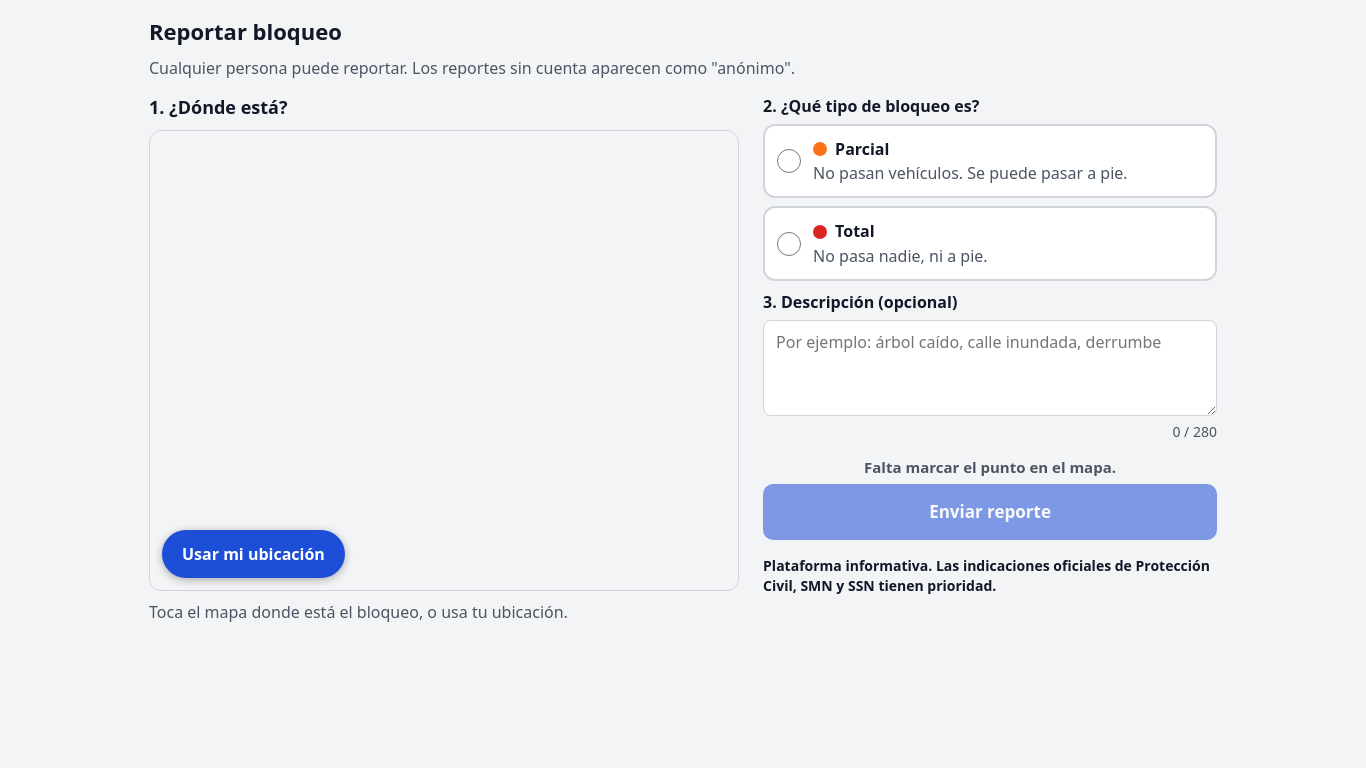
Scenario: ReportarBloqueo › si niegan el permiso de ubicación lo explica
Click the button "Usar mi ubicación" at (253, 554), box [162,530,345,578]
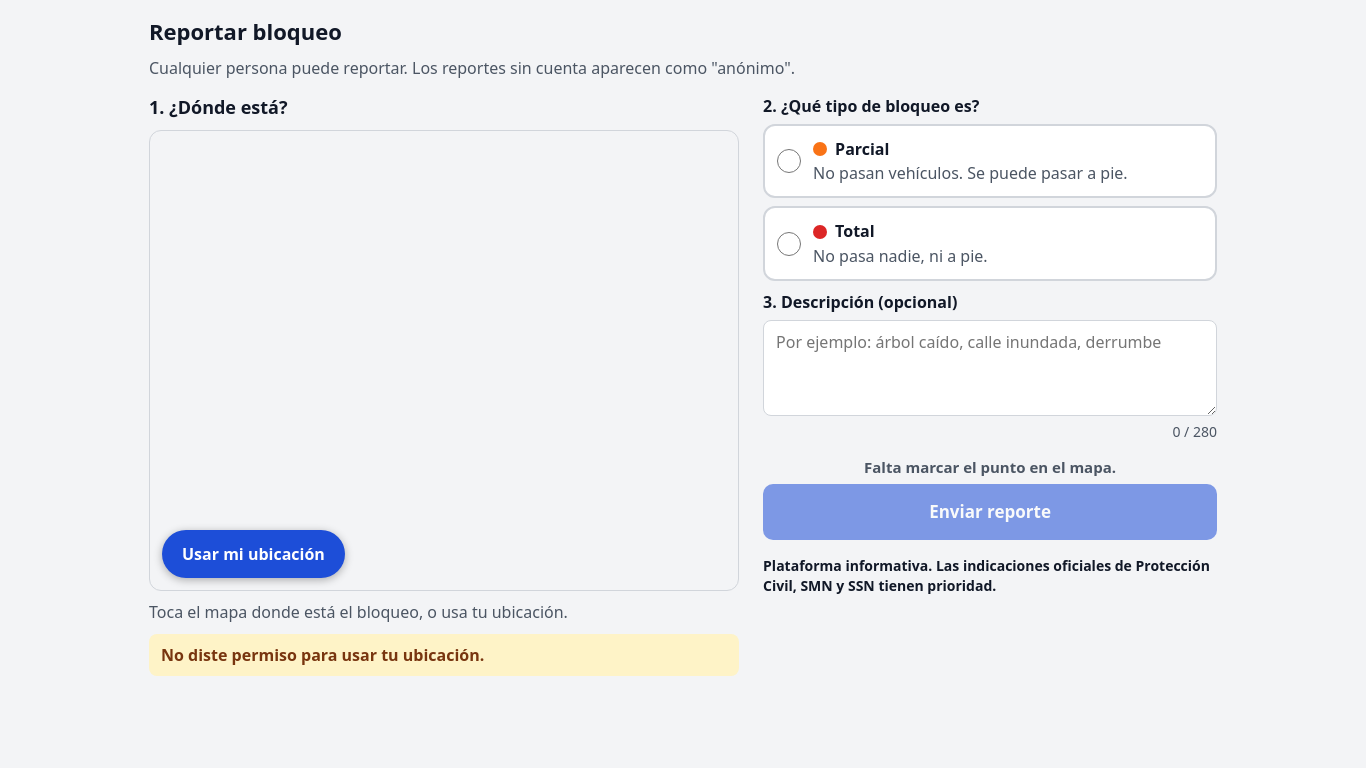
Expected: the text "No diste permiso para usar tu ubicación." is shown, [161,644,484,666]
